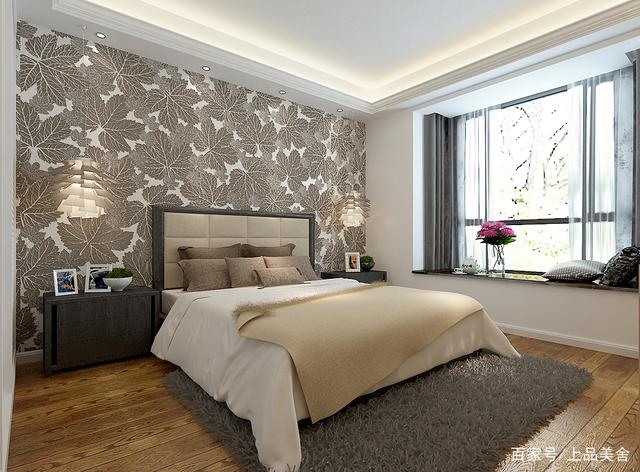床: (149, 278, 493, 431)
枕头: (175, 246, 315, 293), (544, 253, 634, 288)
灯: (58, 155, 107, 224), (341, 187, 365, 231), (90, 30, 107, 41), (198, 64, 214, 75), (278, 86, 289, 101), (333, 106, 344, 116)
